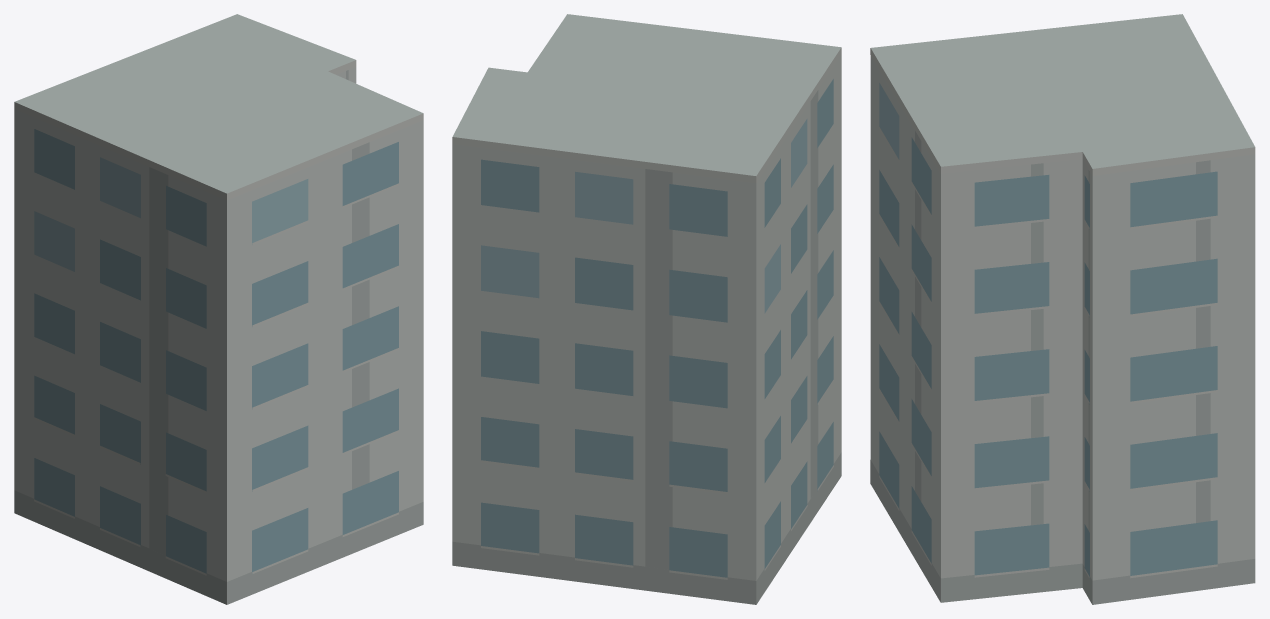
The model's file is survey-upis-32988340.glb.
3 views of the same model, side by side, from view 1: azimuth 30°, elevation 25°; view 2: azimuth 150°, elevation 25°; view 3: azimuth 270°, elevation 25° (orthographic). The views are drawn at different scales.
Parts seen in each view (by area): view 1: survey-upis-32988340.tmp; view 2: survey-upis-32988340.tmp; view 3: survey-upis-32988340.tmp.
Part boxes in pixels (x1=…): survey-upis-32988340.tmp: x1=14, y1=14, x2=423, y2=604; survey-upis-32988340.tmp: x1=452, y1=14, x2=841, y2=604; survey-upis-32988340.tmp: x1=870, y1=14, x2=1255, y2=604.
Size of the model in its own units: 11.29 by 14.8 by 11.85.
